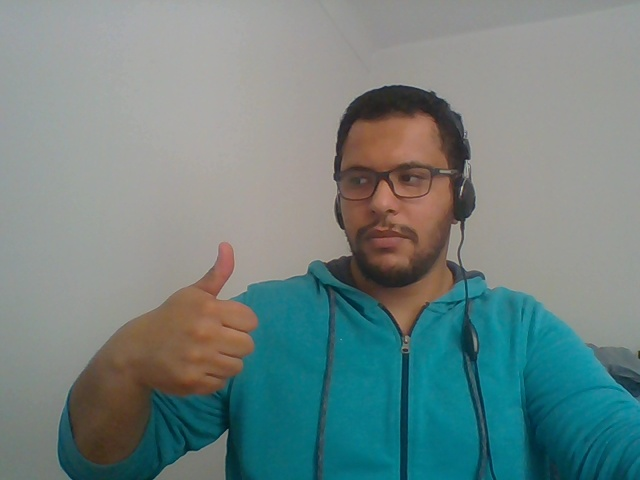ok: (99, 223, 279, 438)
